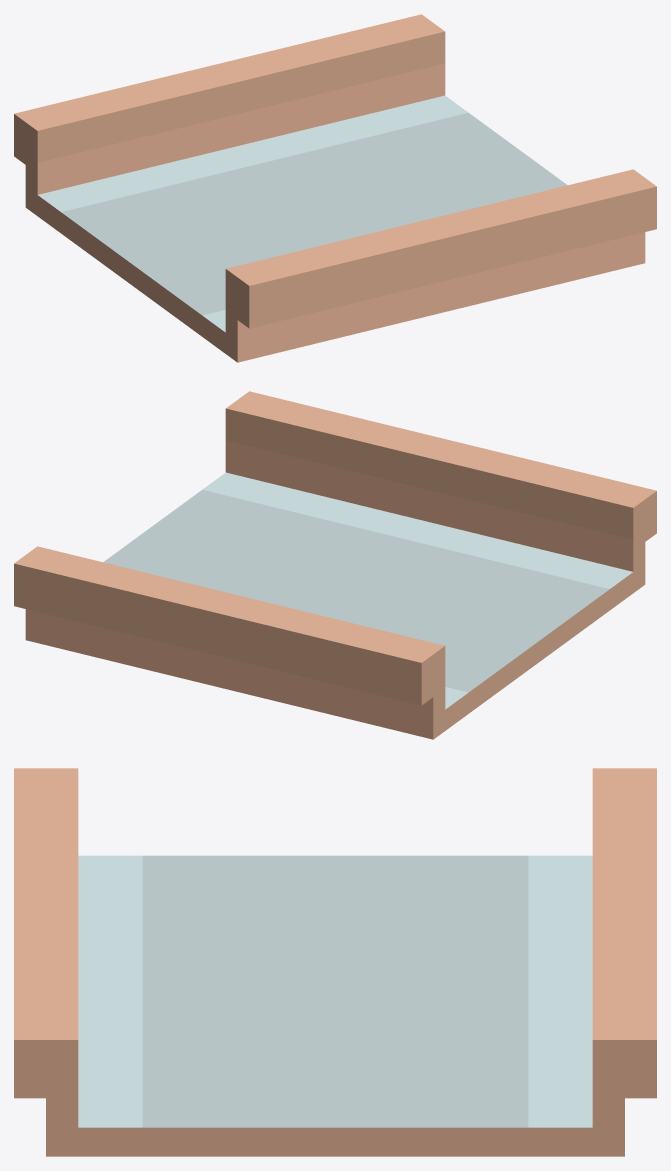
File: bridge_center_woodRound.glb
The picture shows the model from 3 angles, top to bottom: view 1: azimuth 30°, elevation 25°; view 2: azimuth 150°, elevation 25°; view 3: azimuth 270°, elevation 25°; orthographic projection. The views are drawn at different scales.
Visible parts, largest first — view 1: bridge_center_woodRound; view 2: bridge_center_woodRound; view 3: bridge_center_woodRound.
Part boxes in pixels (<box>): bridge_center_woodRound: <box>14,14,656,362</box>; bridge_center_woodRound: <box>14,391,656,739</box>; bridge_center_woodRound: <box>14,768,656,1156</box>.
Size of the model in its own units: 1 by 0.2 by 1.
